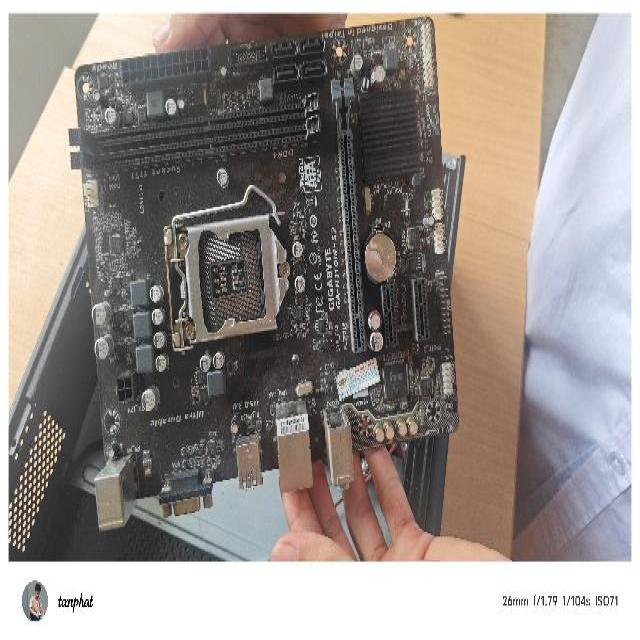Mainboard: (57, 15, 462, 532)
